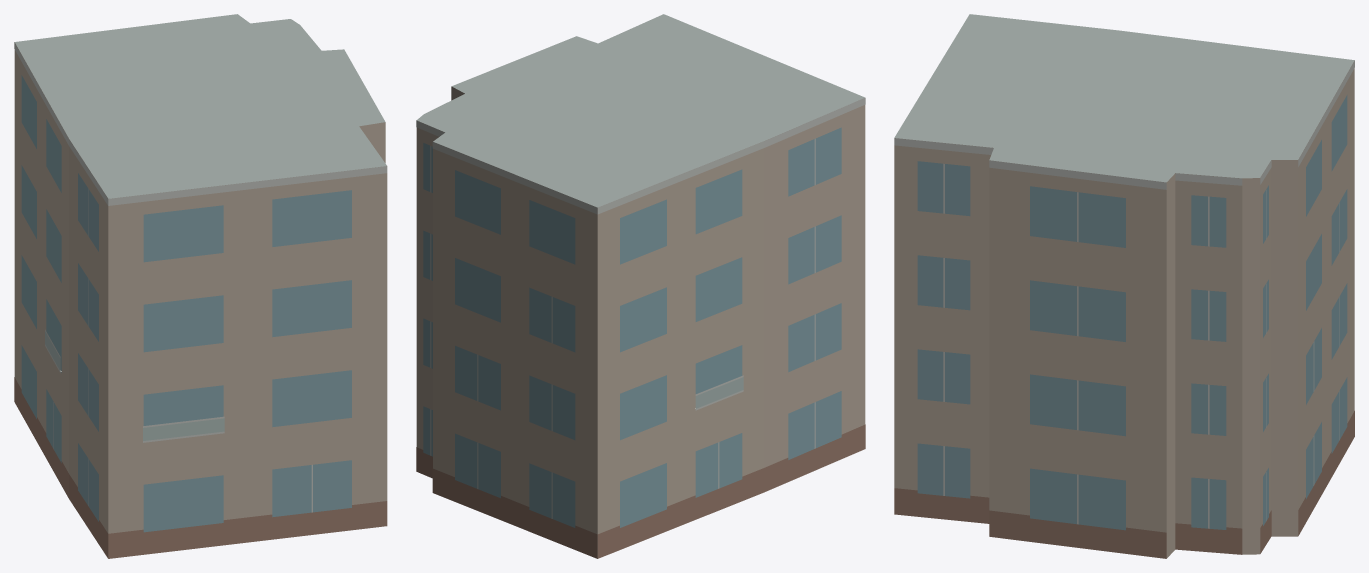
File: survey-upis-32898770.glb
3 renders of one model, left to right at view 1: azimuth 30°, elevation 25°; view 2: azimuth 150°, elevation 25°; view 3: azimuth 270°, elevation 25°, orthographic. The views are drawn at different scales.
Visible parts, largest first — view 1: survey-upis-32898770.tmp; view 2: survey-upis-32898770.tmp; view 3: survey-upis-32898770.tmp.
Part boxes in pixels (box(x1,y1,x2,y2)): survey-upis-32898770.tmp: box(14, 14, 387, 558); survey-upis-32898770.tmp: box(416, 14, 865, 558); survey-upis-32898770.tmp: box(894, 14, 1354, 558).
Size of the model in its own units: 11.86 by 12.35 by 13.71.
